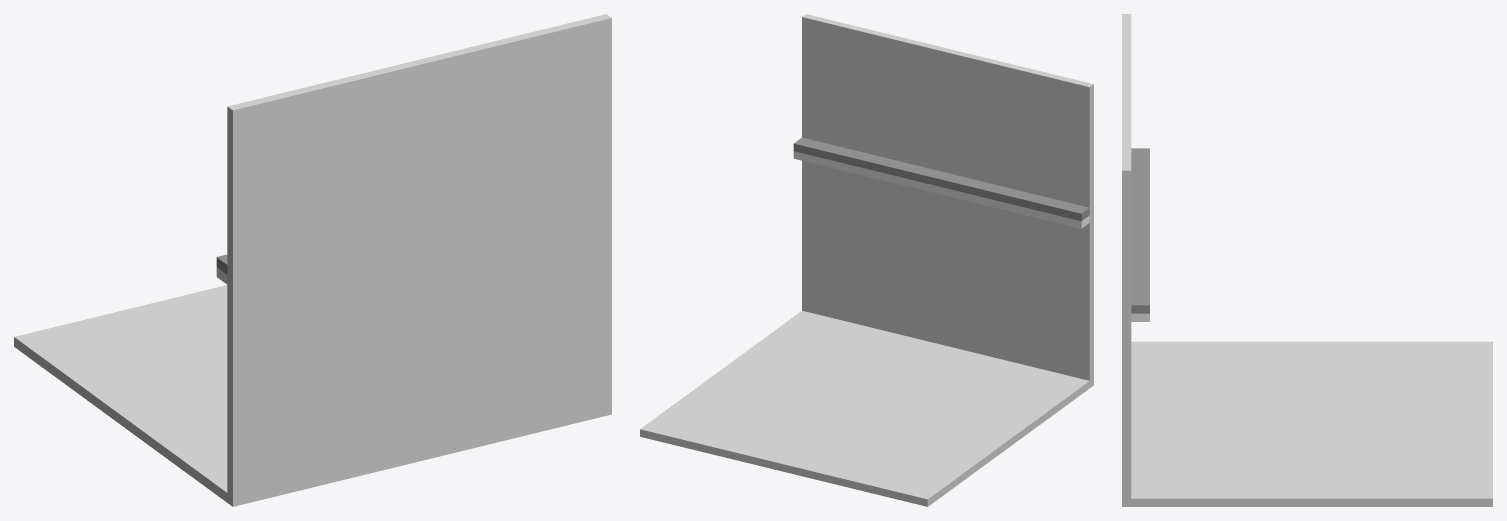
The model's file is wall_light.obj.
The picture shows the model from 3 angles, left to right: view 1: azimuth 30°, elevation 25°; view 2: azimuth 150°, elevation 25°; view 3: azimuth 270°, elevation 25°; orthographic projection. The views are drawn at different scales.
Size of the model in its own units: 4 by 4 by 4.
Materials: 1 (1 with a texture image).
